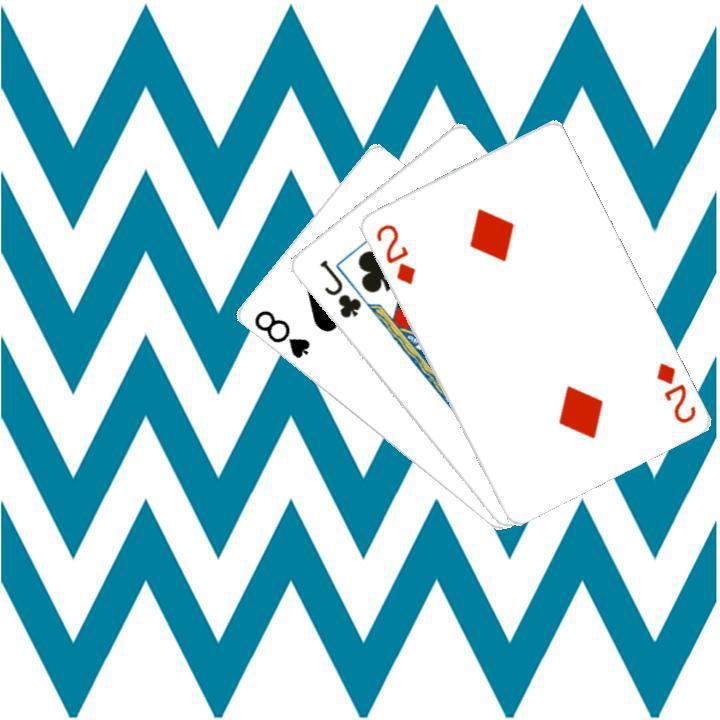2: (370, 219, 417, 287), (651, 358, 698, 425)
8: (249, 305, 312, 361)
J: (314, 255, 363, 321)
